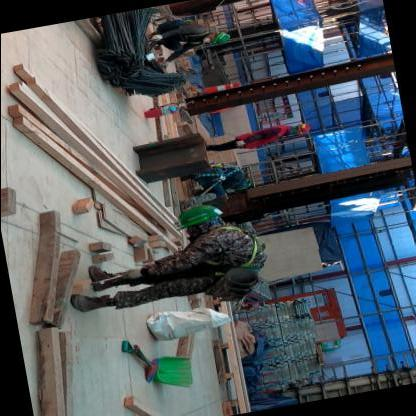Helmet: (165, 195, 230, 228)
safety-shoe: (64, 287, 115, 321), (79, 254, 124, 290)
